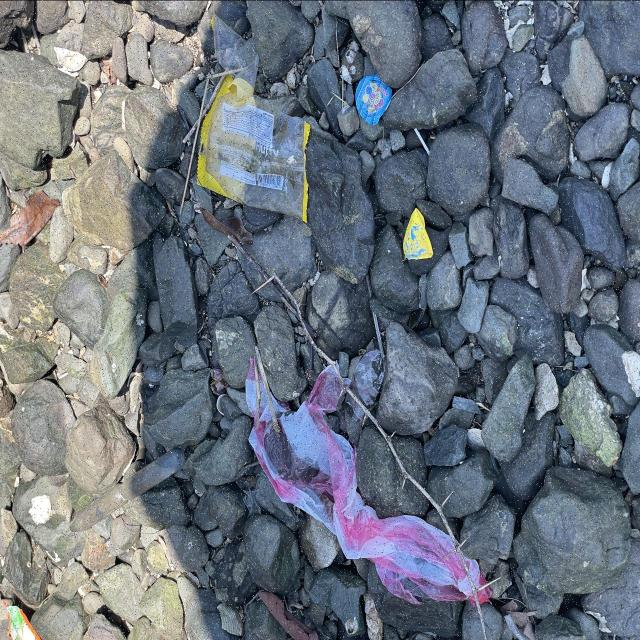plastic_waste: (245, 356, 495, 609), (197, 72, 312, 225), (356, 76, 393, 127), (3, 599, 44, 640)
